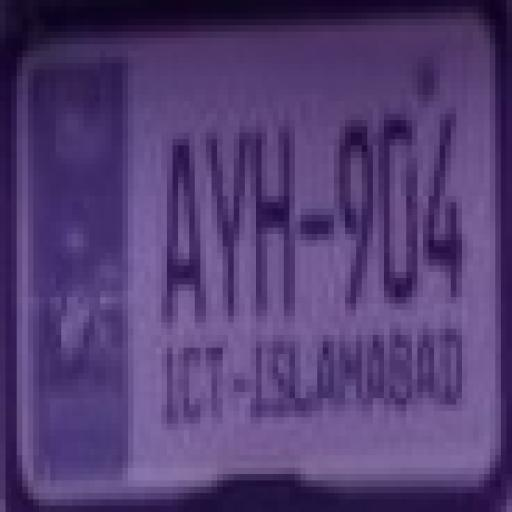0: (378, 118, 418, 318)
4: (424, 108, 467, 311)
9: (337, 123, 376, 322)
A: (166, 134, 208, 334)
H: (248, 134, 294, 326)
Y: (206, 126, 250, 328)
